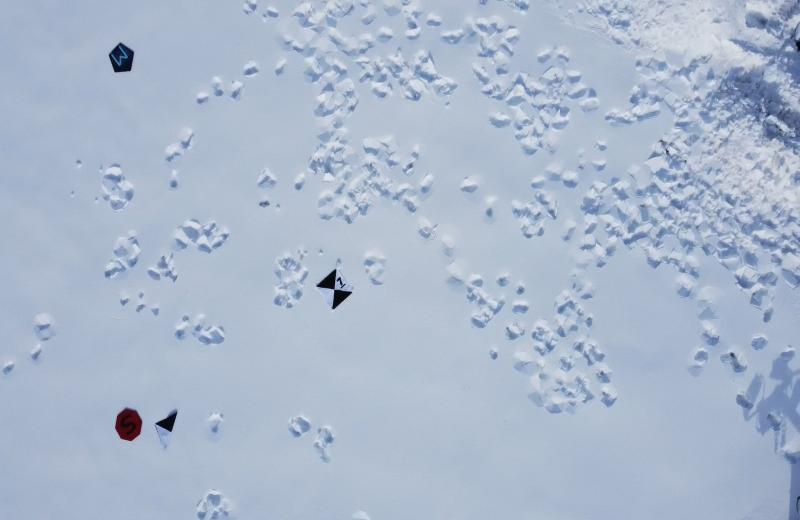Octagon: (112, 404, 145, 444)
Pentagon: (106, 40, 137, 76)
